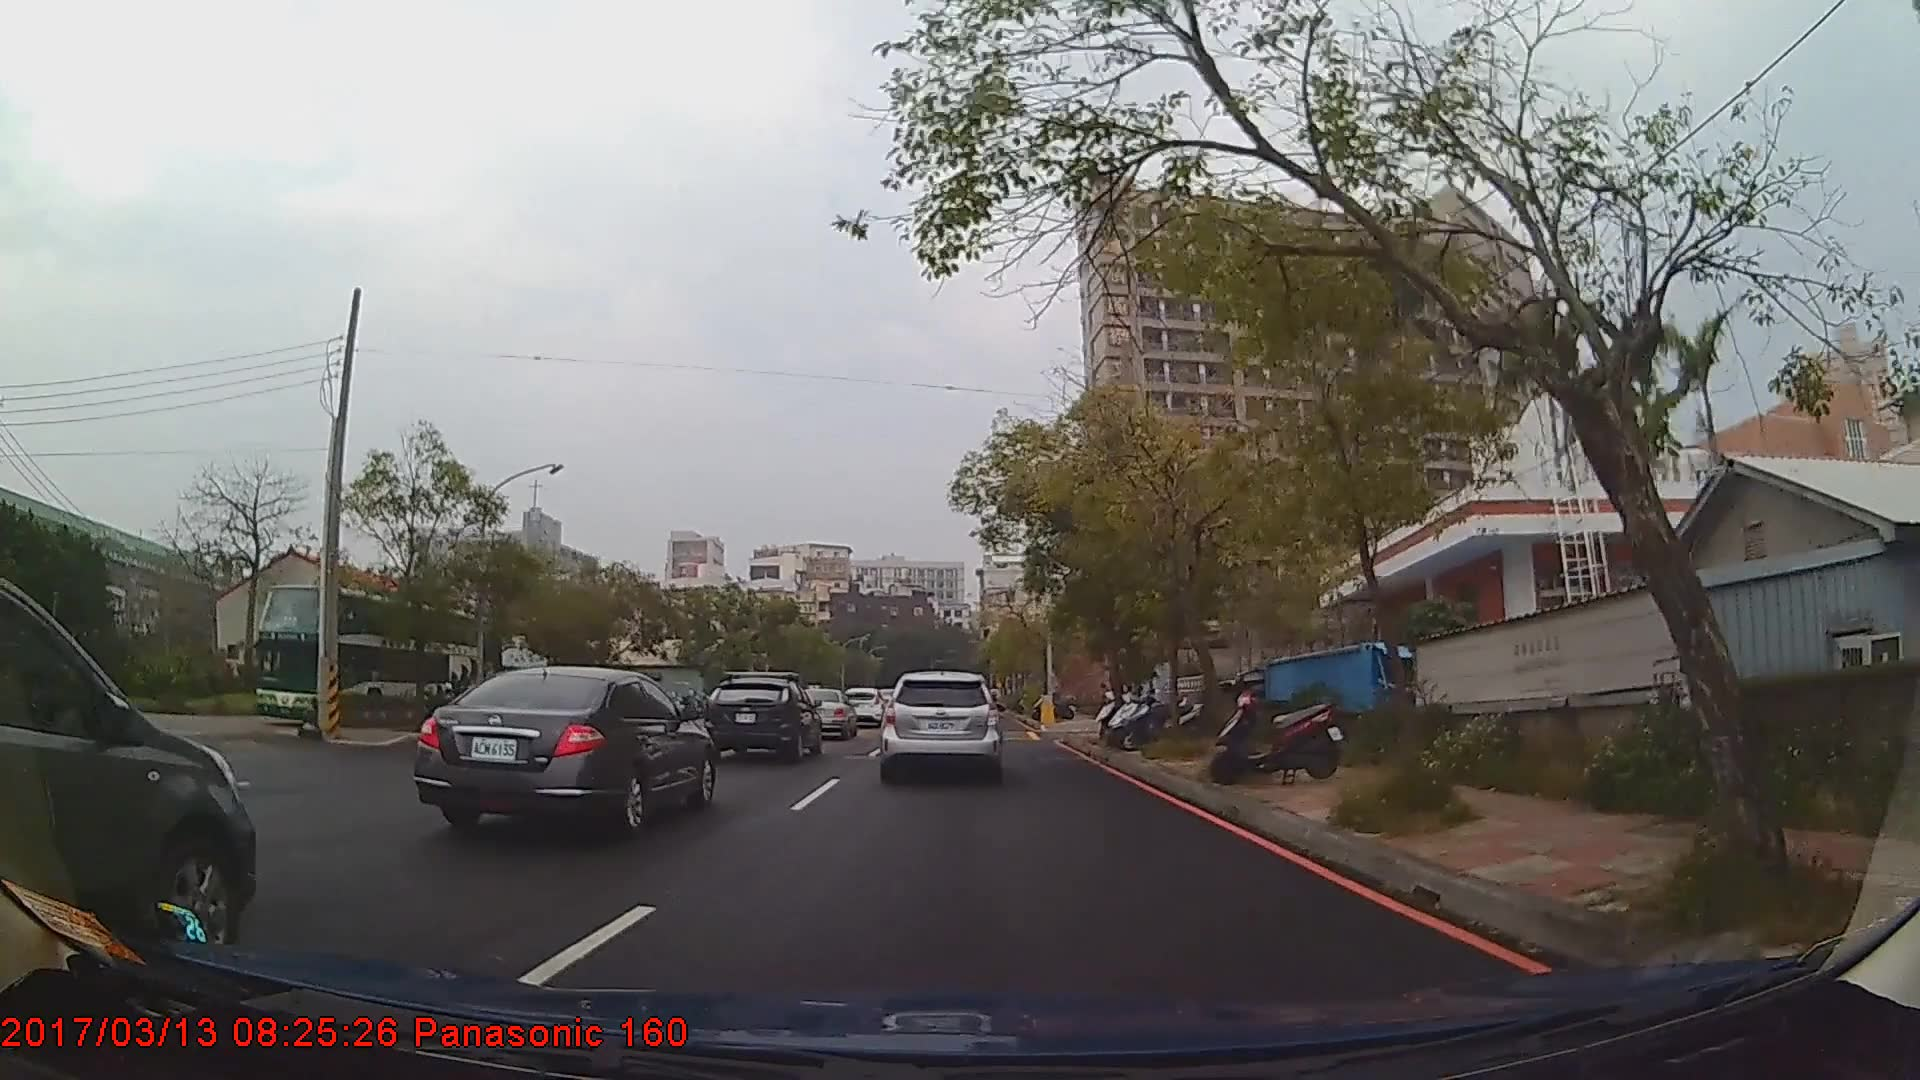vehicle: (0, 571, 256, 963), (414, 662, 715, 833), (251, 582, 477, 737), (880, 669, 1002, 779), (703, 669, 820, 761), (796, 684, 857, 738), (839, 686, 885, 727)
